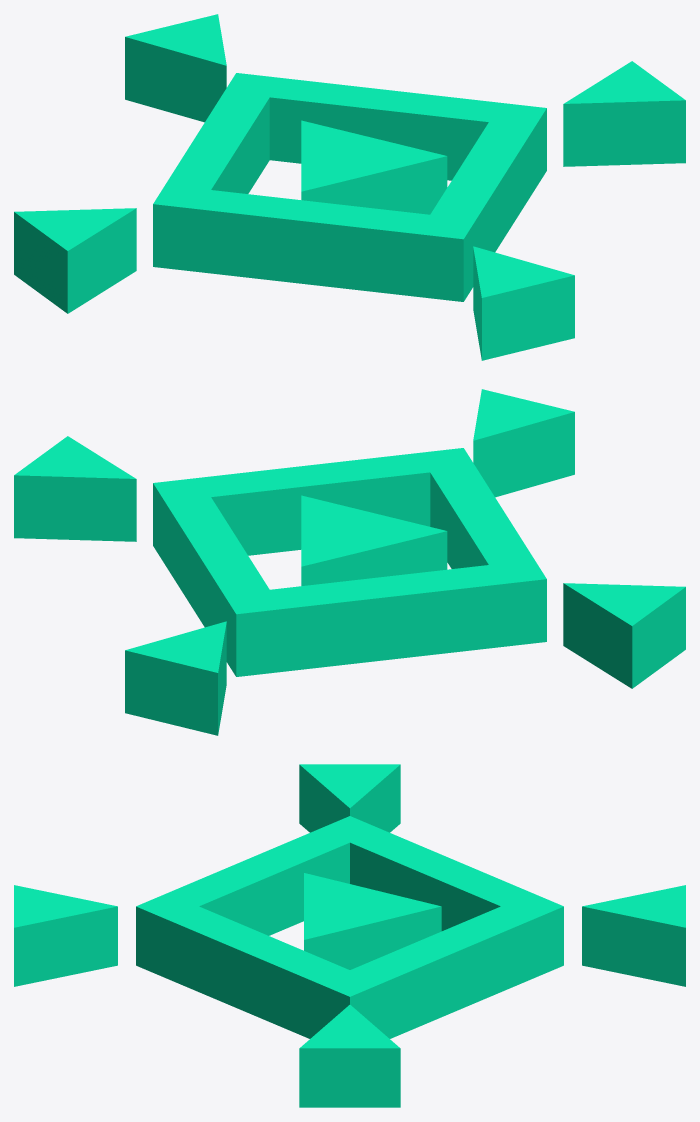
Rendered from rally_point.fbx.
The picture shows the model from 3 angles, top to bottom: view 1: azimuth 30°, elevation 25°; view 2: azimuth 150°, elevation 25°; view 3: azimuth 270°, elevation 25°; orthographic projection. The views are drawn at different scales.
Visible parts, largest first — view 1: Плоскость; view 2: Плоскость; view 3: Плоскость.
Part boxes in pixels (<box>): Плоскость: <box>14,14,685,360</box>; Плоскость: <box>14,389,685,735</box>; Плоскость: <box>14,764,685,1107</box>.
Size of the model in its own units: 138 by 13.44 by 138.
